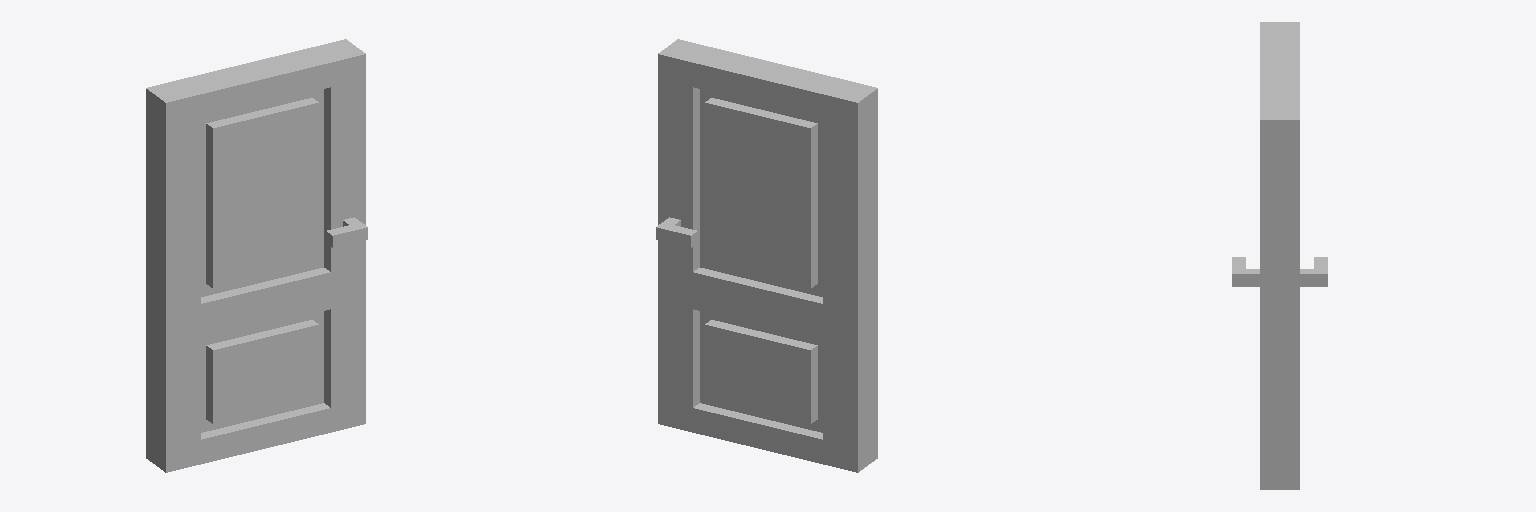
File: door.obj
The picture shows the model from 3 angles: view 1: azimuth 30°, elevation 25°; view 2: azimuth 150°, elevation 25°; view 3: azimuth 270°, elevation 25°; orthographic projection.
Parts seen in each view (by area): view 1: object 1; view 2: object 1; view 3: object 1.
Part boxes in pixels (bbox=[...]): object 1: bbox=[146, 39, 367, 472]; object 1: bbox=[656, 39, 877, 472]; object 1: bbox=[1232, 22, 1327, 489].
Size of the model in its own units: 1.7 by 3 by 0.7.